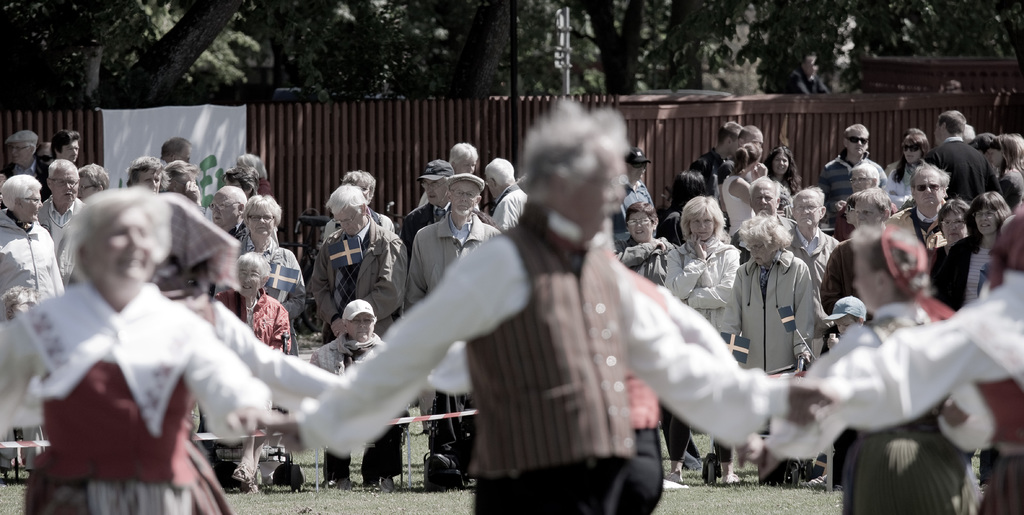Human_hand: (788, 377, 832, 428), (225, 405, 280, 443), (268, 415, 305, 454), (735, 432, 767, 470), (756, 444, 780, 484), (690, 230, 707, 260), (330, 318, 348, 340), (794, 349, 810, 365), (654, 238, 668, 254), (826, 339, 839, 352), (834, 200, 846, 213)
